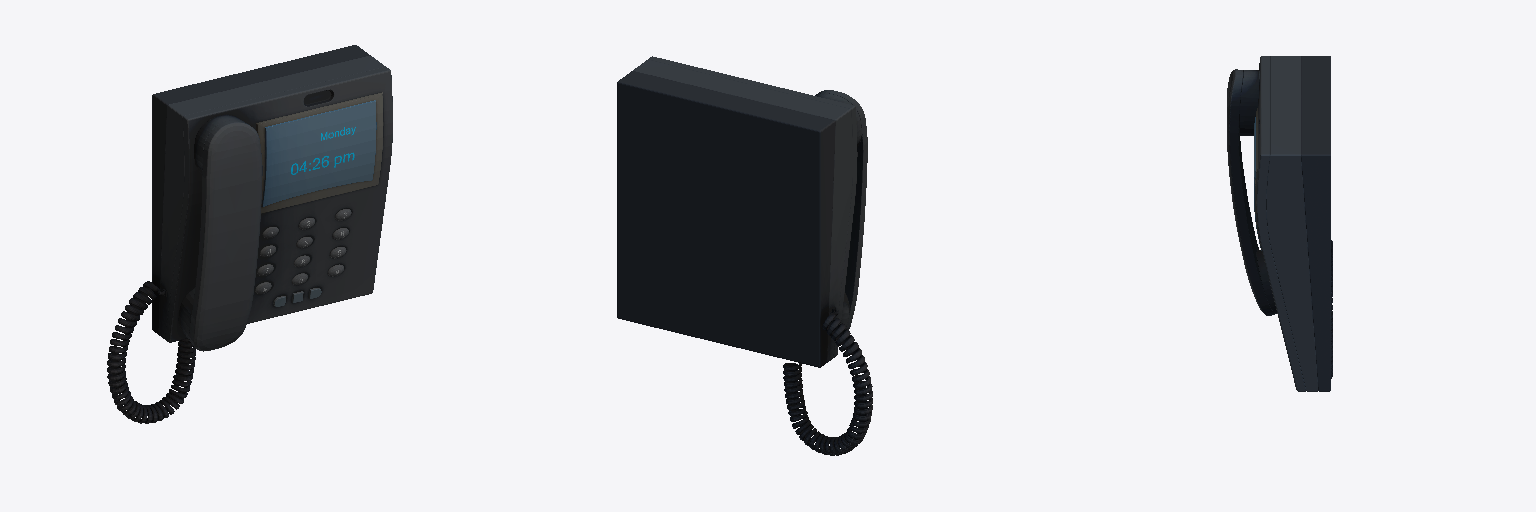
3 renders of one model, left to right at view 1: azimuth 30°, elevation 25°; view 2: azimuth 150°, elevation 25°; view 3: azimuth 270°, elevation 25°, orthographic.
Parts seen in each view (by area): view 1: Object.1; view 2: Object.1; view 3: Object.1.
Boxes of the visible parts, box(x1,y1,x2,y2) form: Object.1: box(107, 45, 392, 423); Object.1: box(617, 56, 872, 455); Object.1: box(1227, 56, 1332, 391).
Size of the model in its own units: 221 by 273 by 81.13.
Materials: 1 (1 with a texture image).